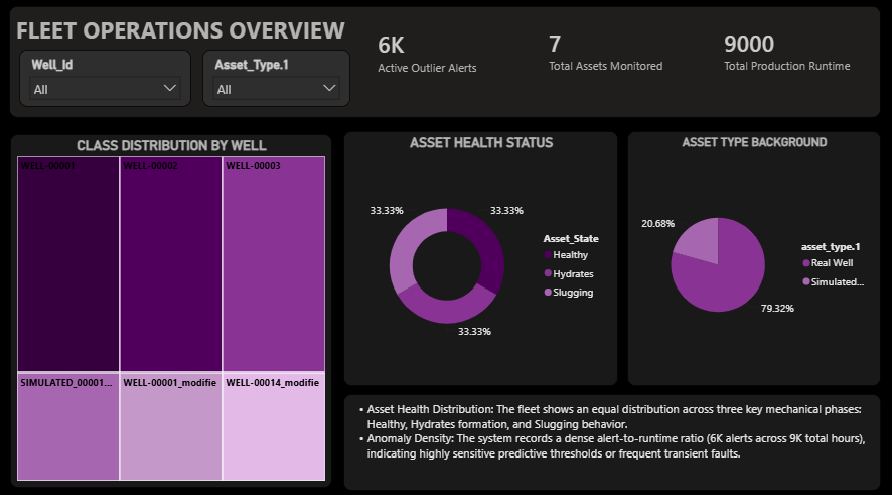

Layout of this report page (visuals, bound fields, positions):
{"tool":"powerbi","page":{"name":"Page 1","canvas":[1280,720],"ordinal":0},"visuals":[{"type":"shape","box":[0,0,1280,720.8],"z":0},{"type":"textbox","box":[22.9,19.8,1237.3,158.5],"z":1000},{"type":"cardVisual","fields":{"Data":["balanced_master_data.Total Assets Monitored"]},"box":[760.4,25.9,231.6,112.8],"z":2000},{"type":"donutChart","title":"ASSET HEALTH STATUS","fields":{"Category":["balanced_master_data.Asset_State"],"Y":["CountNonNull(balanced_master_data.Asset_State)"]},"box":[496.8,195,390.1,359.6],"z":3000},{"type":"slicer","fields":{"Values":["balanced_master_data.well_id"]},"box":[36.6,80.8,243.8,80.8],"z":4000},{"type":"slicer","fields":{"Values":["balanced_master_data.Asset_Type"]},"box":[297.1,80.8,210.3,80.8],"z":5000},{"type":"pieChart","title":"ASSET TYPE BACKGROUND","fields":{"Category":["balanced_master_data.Asset_Type"],"Y":["CountNonNull(balanced_master_data.Asset_Type)"]},"box":[900.6,195,359.6,359.6],"z":6000},{"type":"treemap","title":"CLASS DISTRIBUTION BY WELL","fields":{"Group":["balanced_master_data.well_id"],"Values":["Count(balanced_master_data.class)"]},"box":[24.4,199.6,457.1,499.8],"z":7000},{"type":"cardVisual","fields":{"Data":["balanced_master_data.Total Production Runtime"]},"box":[1008.8,25.9,239.2,112.8],"z":8000},{"type":"cardVisual","fields":{"Data":["balanced_master_data.Active Outlier Alerts"]},"box":[516.5,28.8,227.1,110],"z":9000},{"type":"textbox","box":[496.8,566.9,763.4,137.1],"z":10000}]}

Visuals, with their boxes in screenshot pixels (x1, y1, x2, y2), scaled from the page's 1280x720 canvas onto the 892x495 screenshot:
shape: (left=0, top=0, right=891, bottom=494)
textbox: (left=16, top=14, right=878, bottom=123)
cardVisual - balanced_master_data.Total Assets Monitored: (left=530, top=18, right=691, bottom=95)
"ASSET HEALTH STATUS" donutChart: (left=346, top=134, right=618, bottom=381)
slicer - balanced_master_data.well_id: (left=26, top=56, right=195, bottom=111)
slicer - balanced_master_data.Asset_Type: (left=207, top=56, right=354, bottom=111)
"ASSET TYPE BACKGROUND" pieChart: (left=628, top=134, right=878, bottom=381)
"CLASS DISTRIBUTION BY WELL" treemap: (left=17, top=137, right=336, bottom=481)
cardVisual - balanced_master_data.Total Production Runtime: (left=703, top=18, right=870, bottom=95)
cardVisual - balanced_master_data.Active Outlier Alerts: (left=360, top=20, right=518, bottom=95)
textbox: (left=346, top=390, right=878, bottom=484)
